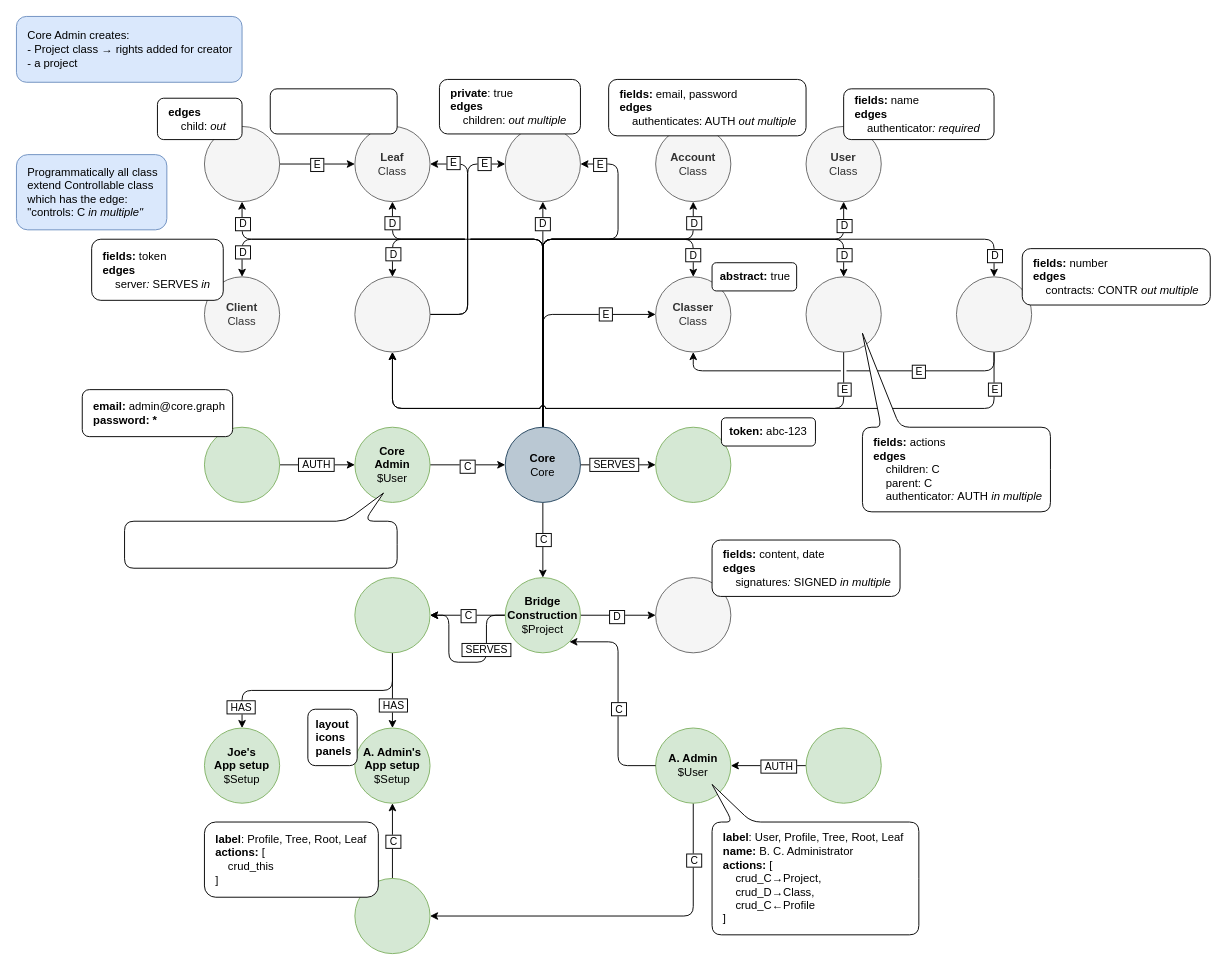
Image size: 1227x970. Some labels were removed from this diagram. The centre of each missing label's shape, as x and y in pixels:
$Profile: [392,915]
admin@bc $Account: [843,765]
admin@core $Account: [242,464]
B. C. Web Frontend $Client: [392,615]
Contract Class: [693,615]
Core Web Frontend $Client: [693,464]
edges parent: in required: [333,111]
name: Core Administrator actions: [crud_Class, crud_Profile, crud_Project]: [260,530]
Pipe Class: [242,163]
Profile Class: [843,314]
Project Class: [994,314]
Root Class: [542,163]
Tree Class: [392,314]
